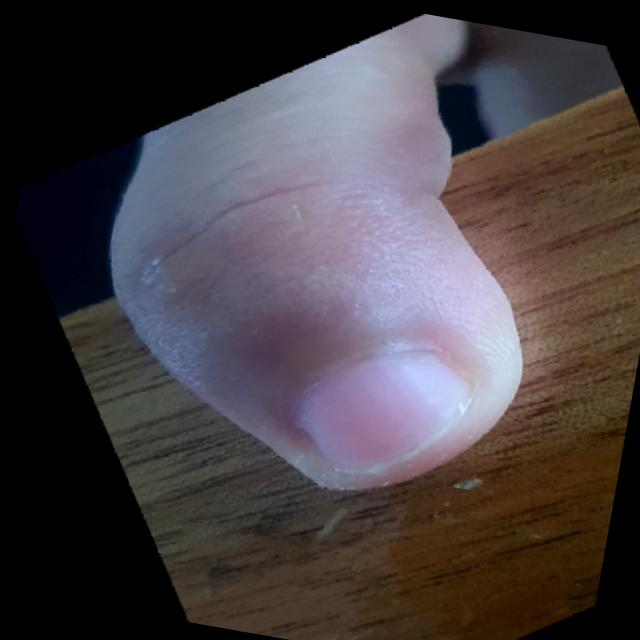Nail: (299, 356, 469, 470)
